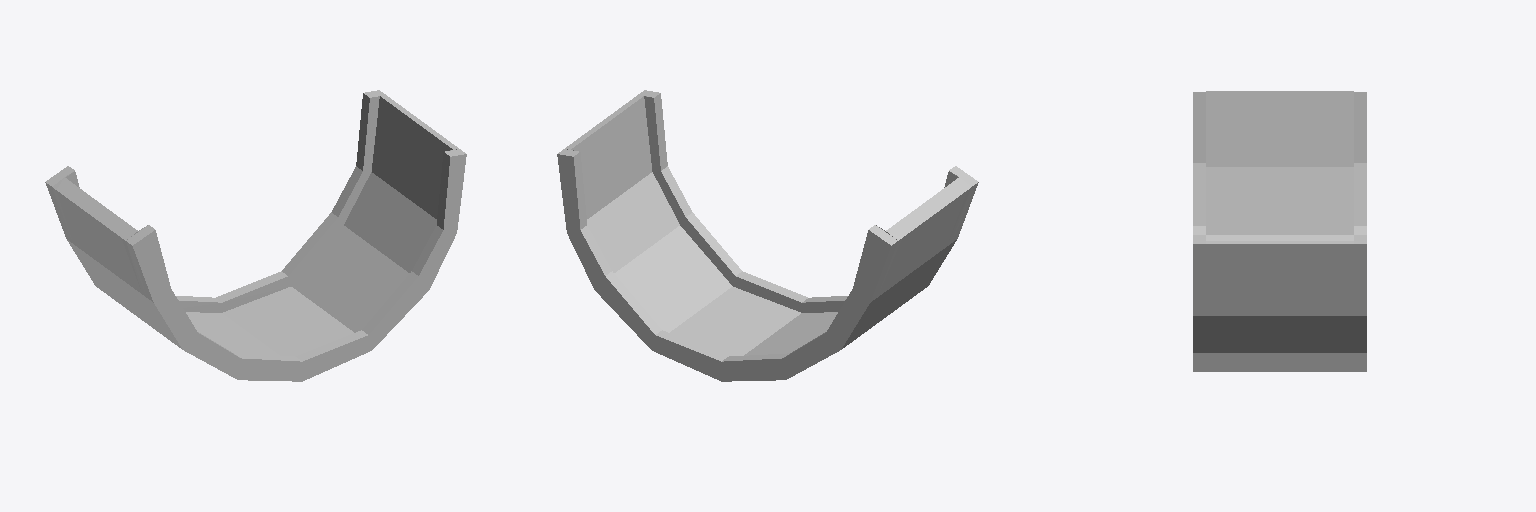
File: reru_2.obj
3 views of the same model, side by side, from view 1: azimuth 30°, elevation 25°; view 2: azimuth 150°, elevation 25°; view 3: azimuth 270°, elevation 25° (orthographic).
Parts seen in each view (by area): view 1: pCube1; view 2: pCube1; view 3: pCube1.
Part boxes in pixels (x1,y1,x2,y2): pCube1: (45,90,466,381); pCube1: (557,90,978,381); pCube1: (1193,91,1366,371).
Size of the model in its own units: 3.91 by 2.11 by 1.77.